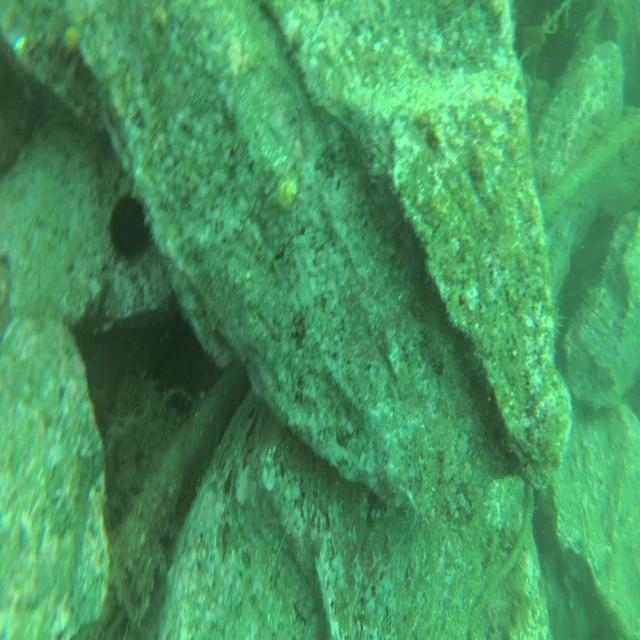echinus: (102, 190, 156, 264)
